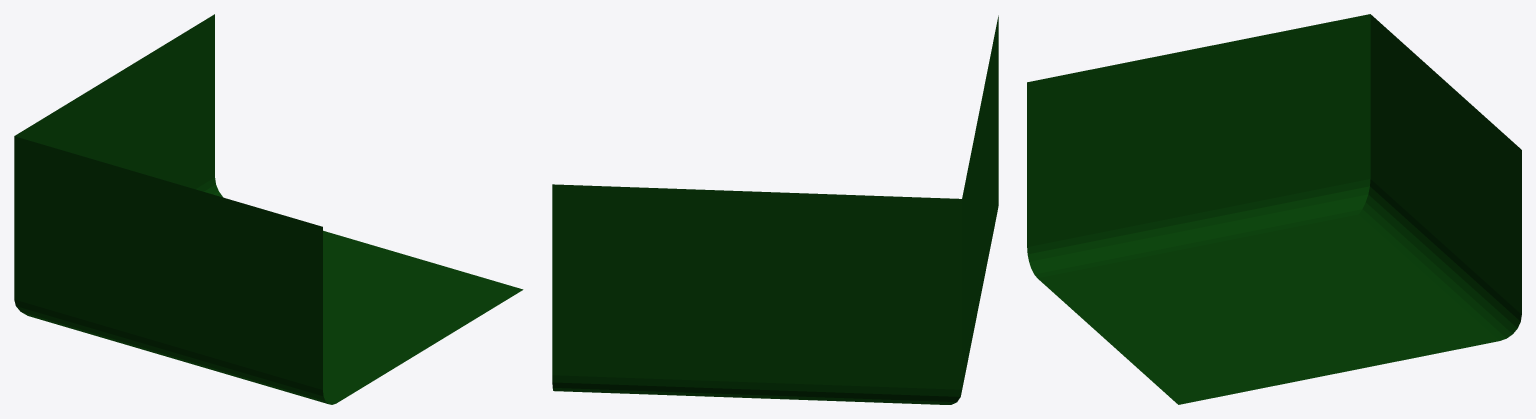
Rendered from FONDO 1.fbx.
The picture shows the model from 3 angles, left to right: view 1: azimuth 30°, elevation 25°; view 2: azimuth 150°, elevation 25°; view 3: azimuth 270°, elevation 25°; orthographic projection. The views are drawn at different scales.
Parts seen in each view (by area): view 1: Cube; view 2: Cube; view 3: Cube.
Boxes of the visible parts, x1,y1,x2,y2 form: Cube: (14, 14, 523, 404); Cube: (552, 15, 998, 404); Cube: (1027, 14, 1521, 404).
Size of the model in its own units: 7189 by 3066 by 7361.
